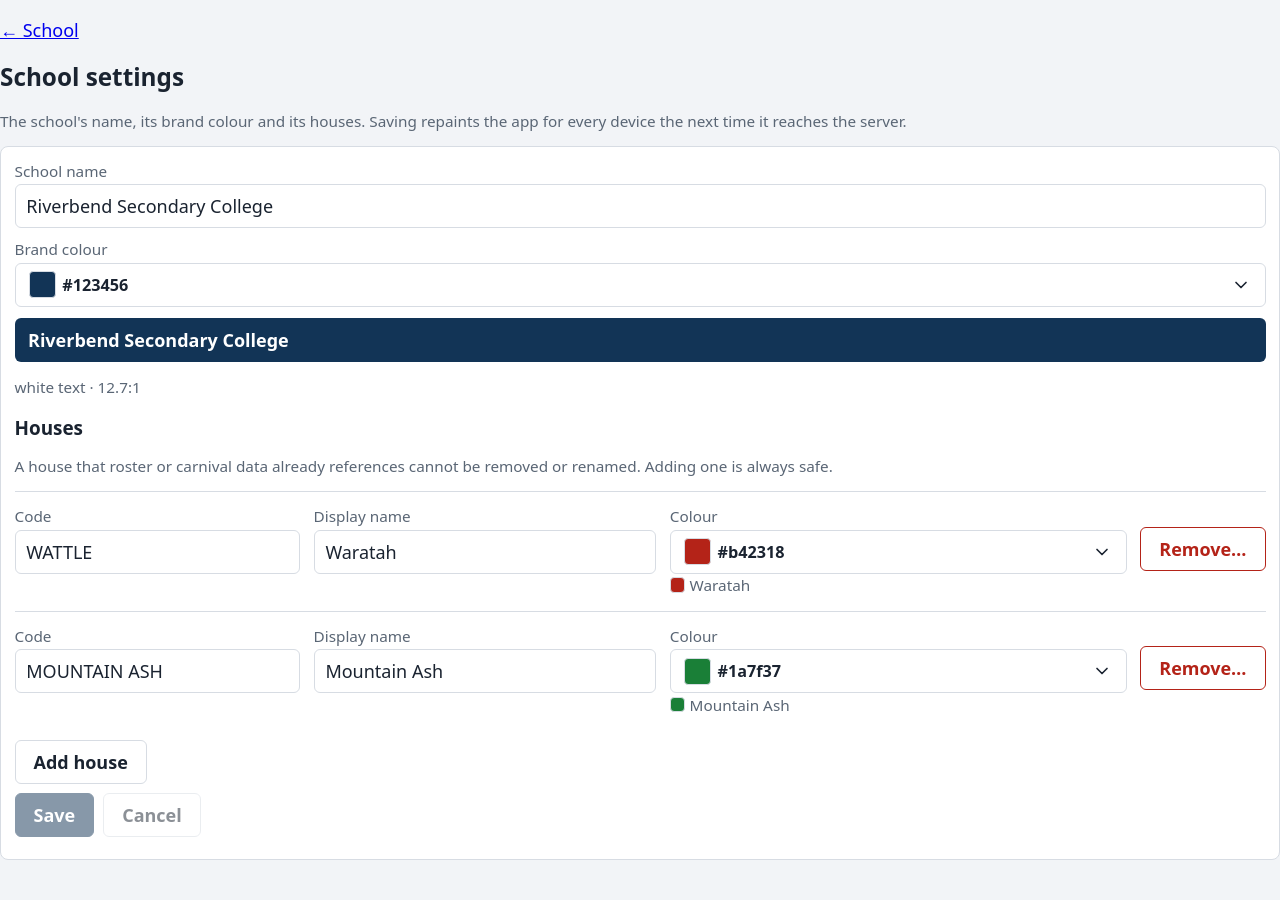
Test: SchoolSettingsScreen › lands a 422 on the row and field the server named
Step 1. Replace the text in the field labelled "School name" with "Riverbend" → (640, 206), box [14,184,1266,228]
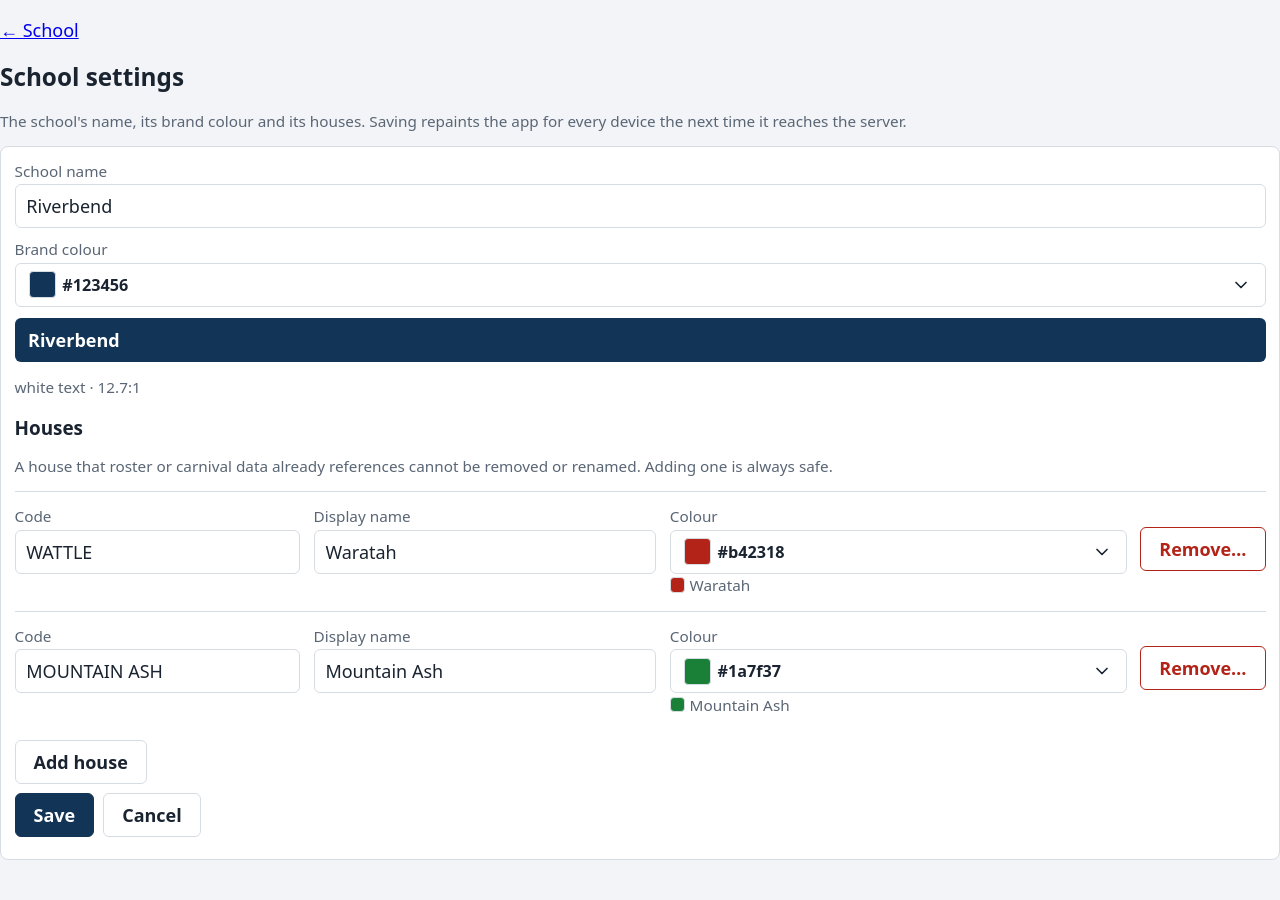
Step 2. Click the button "Save" → (54, 815), box [14,793,94,837]
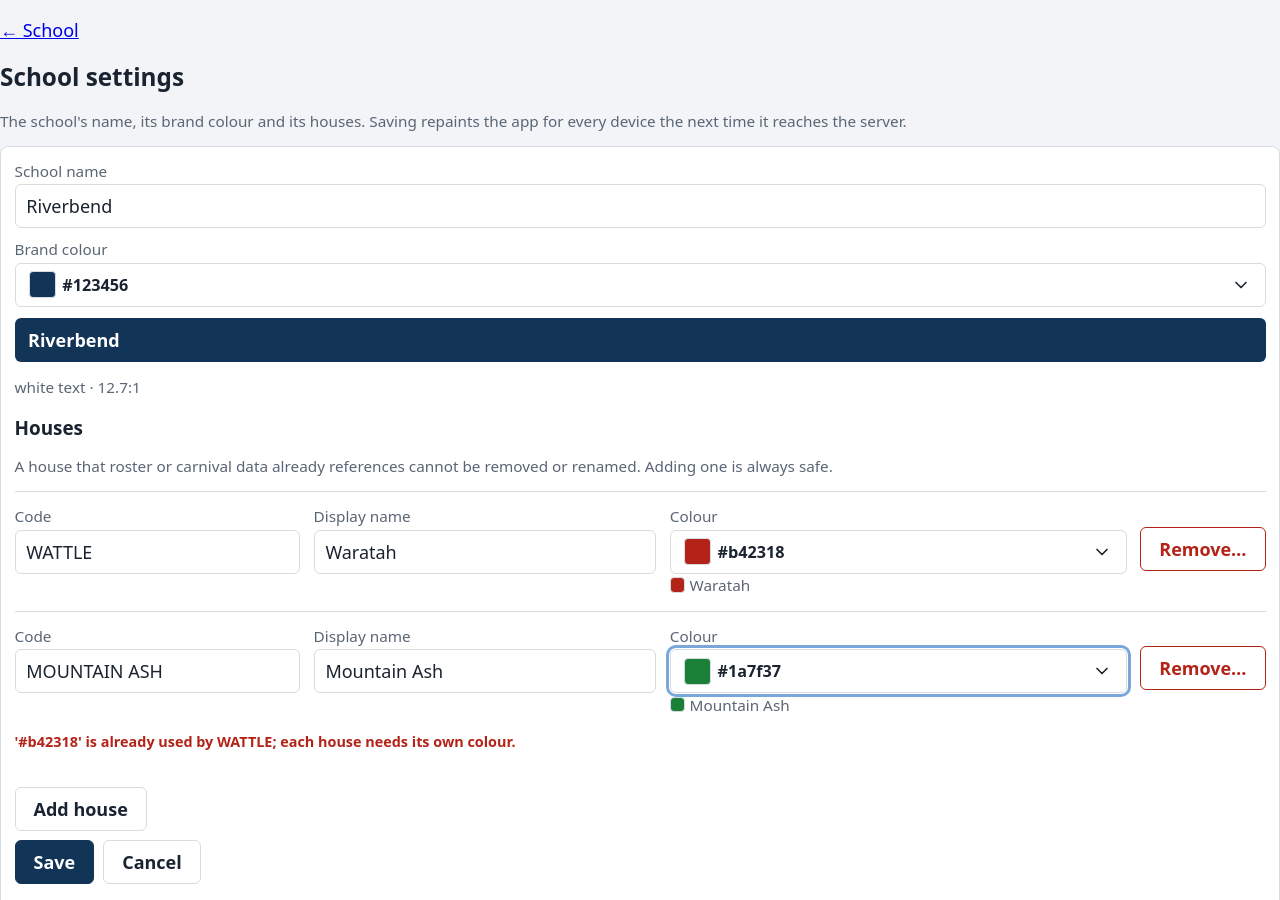
Expected: the text "already used by WATTLE" is not shown
Now the 2nd list item shows "already used by WATTLE", box [14,732,516,750]
